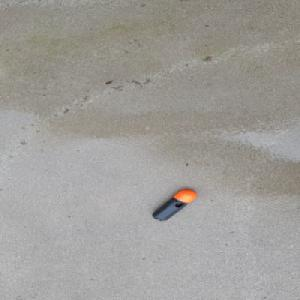PlasticPart: (151, 189, 198, 221)
